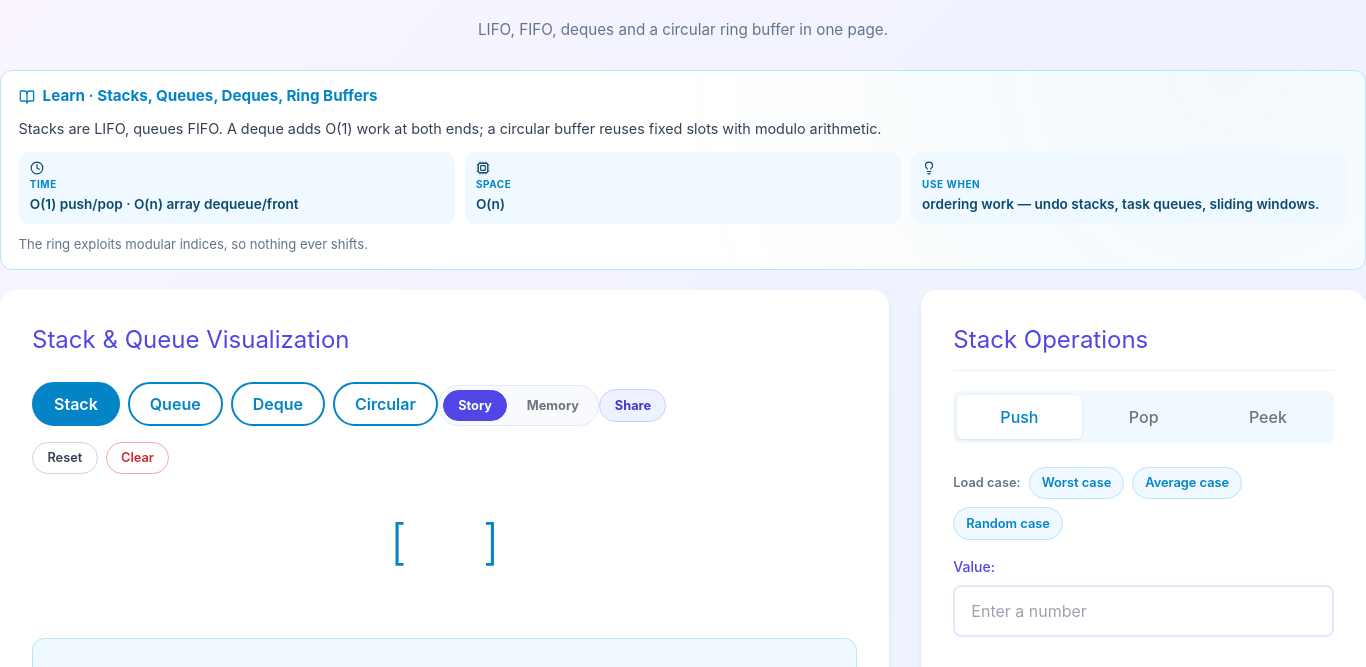
Test: queue operations › enqueueing shows the queueEnqueue pseudocode pane
Click the button "Queue" at (175, 404), box [128,382,223,426]
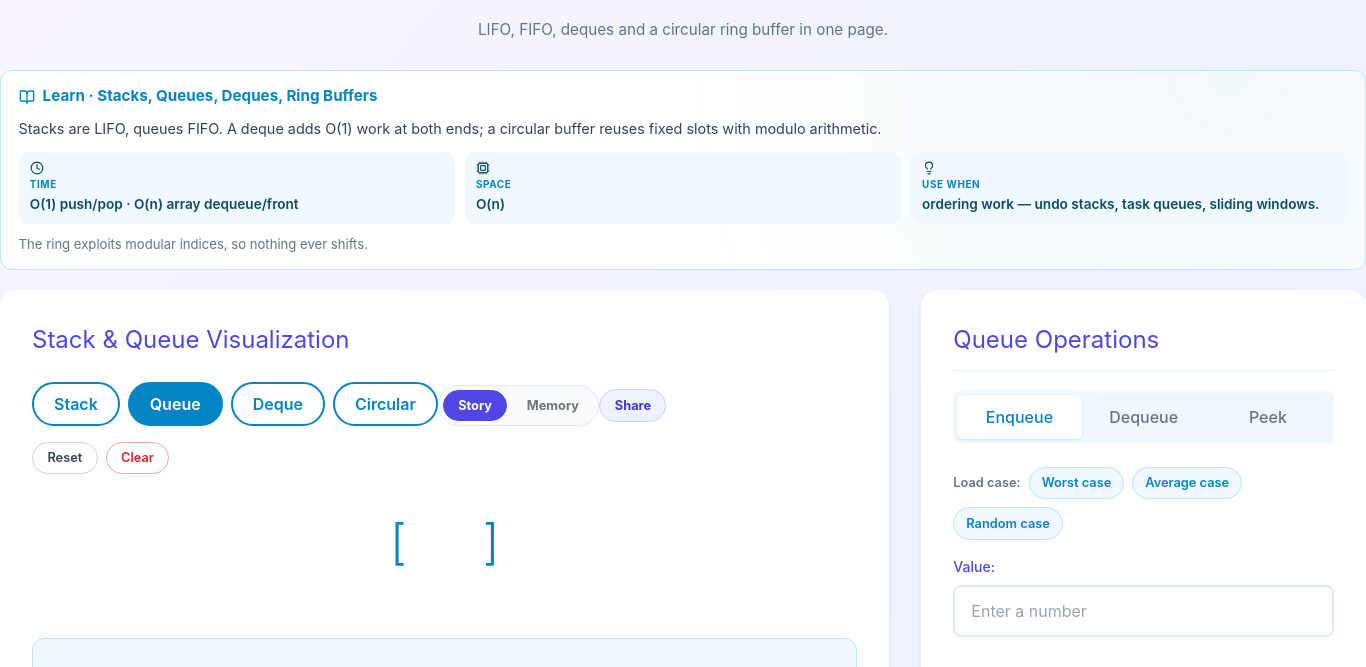
Type "30" into the number field with placeholder "Enter a number" at (1144, 611), box [953,585,1334,637]
(page scrolled)
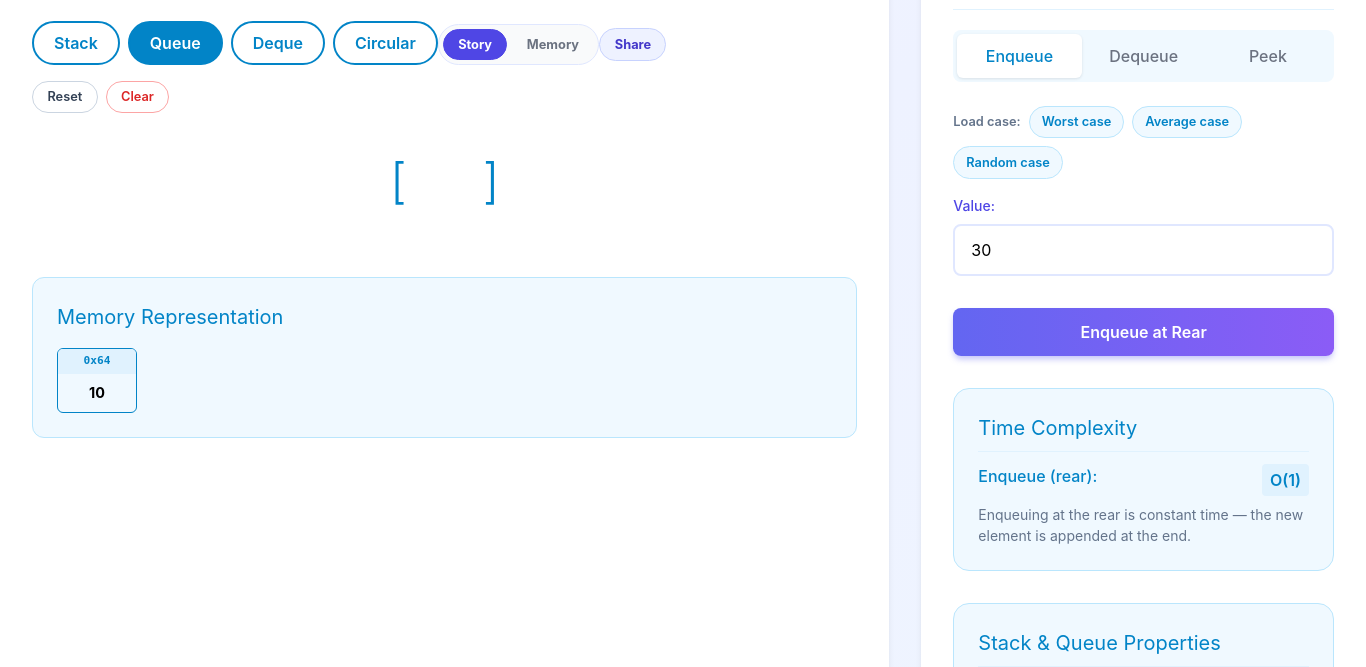
Click the button "Enqueue at Rear" at (1144, 332), box [953,308,1334,356]
Wait 30000 ms
(page scrolled)
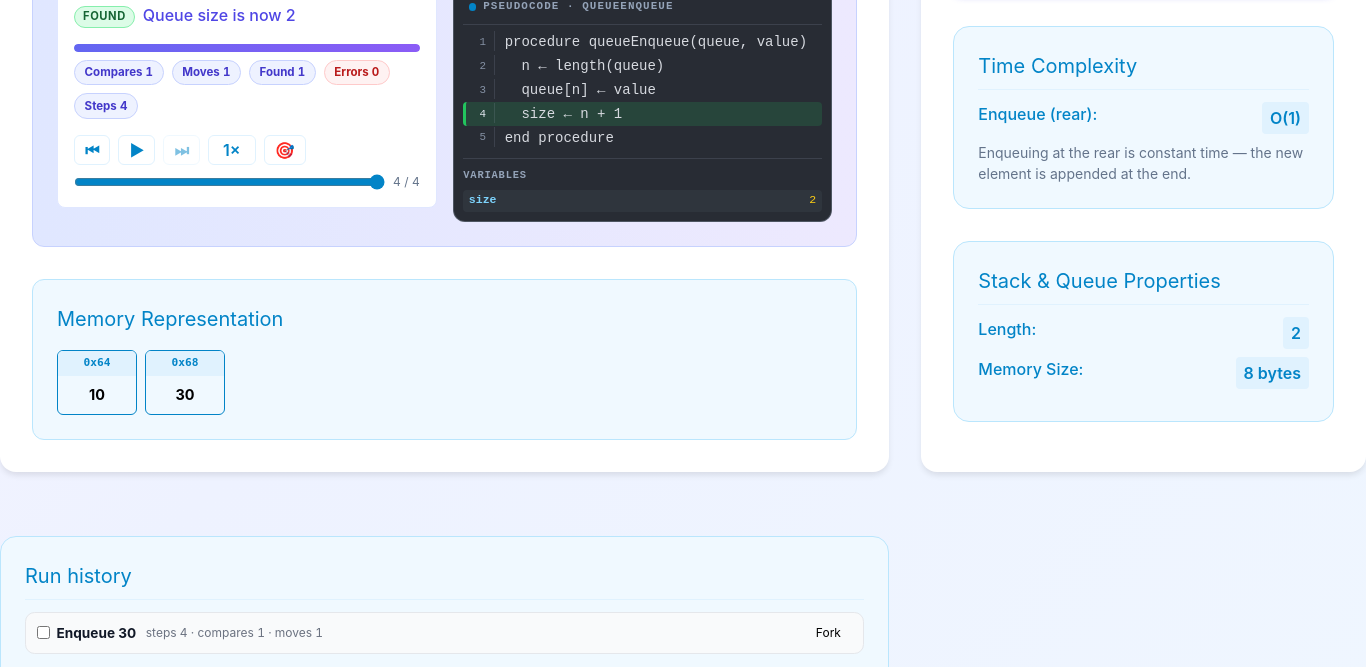
Expected: the text "Enqueue 30" is shown, [57,623,136,643]
Expected: the number of elements with class "code-line" is 5, [463,30,822,54]; [473,55,664,75]; [473,79,656,99]; [463,102,822,126]; [473,127,614,147]
